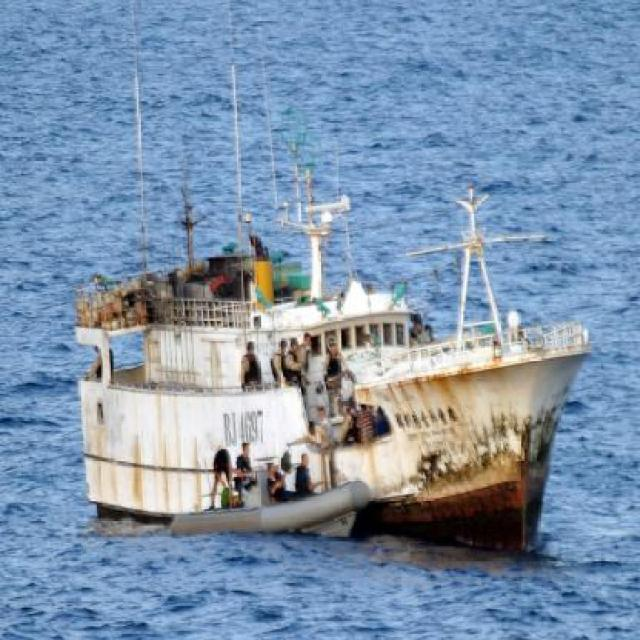fish-b: (66, 180, 600, 568)
